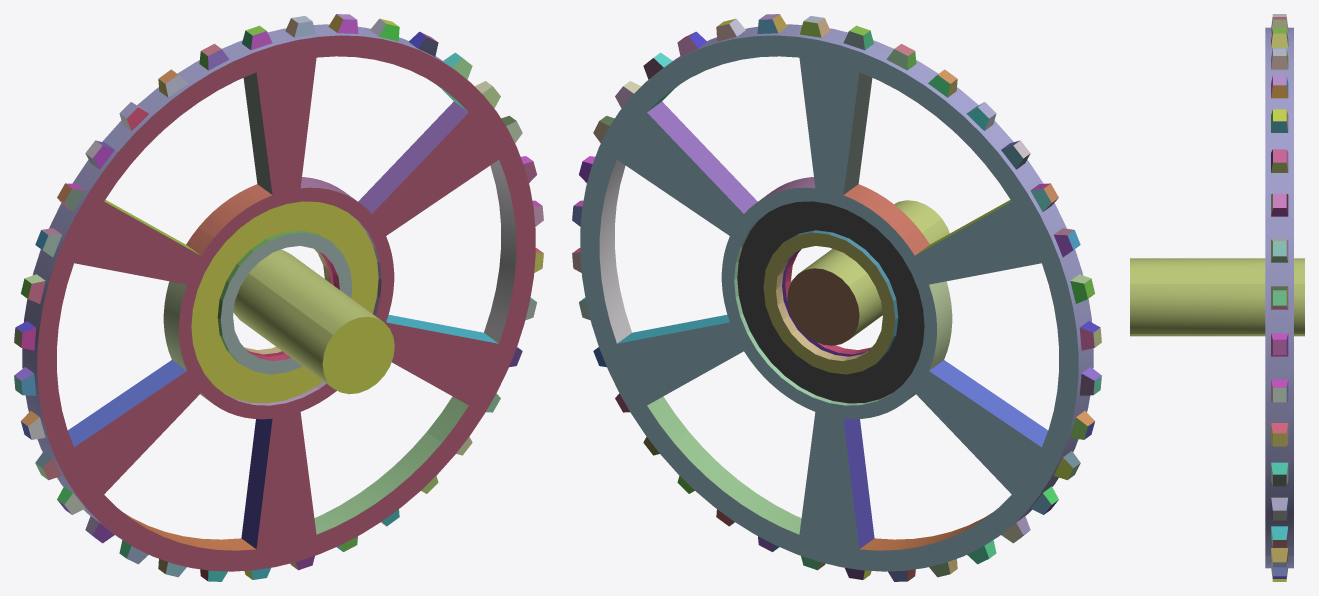
File: module-timer-01.glb
The picture shows the model from 3 angles, left to right: view 1: azimuth 30°, elevation 25°; view 2: azimuth 150°, elevation 25°; view 3: azimuth 270°, elevation 25°; orthographic projection. The views are drawn at different scales.
Size of the model in its own units: 1.99 by 1.99 by 0.6137.
